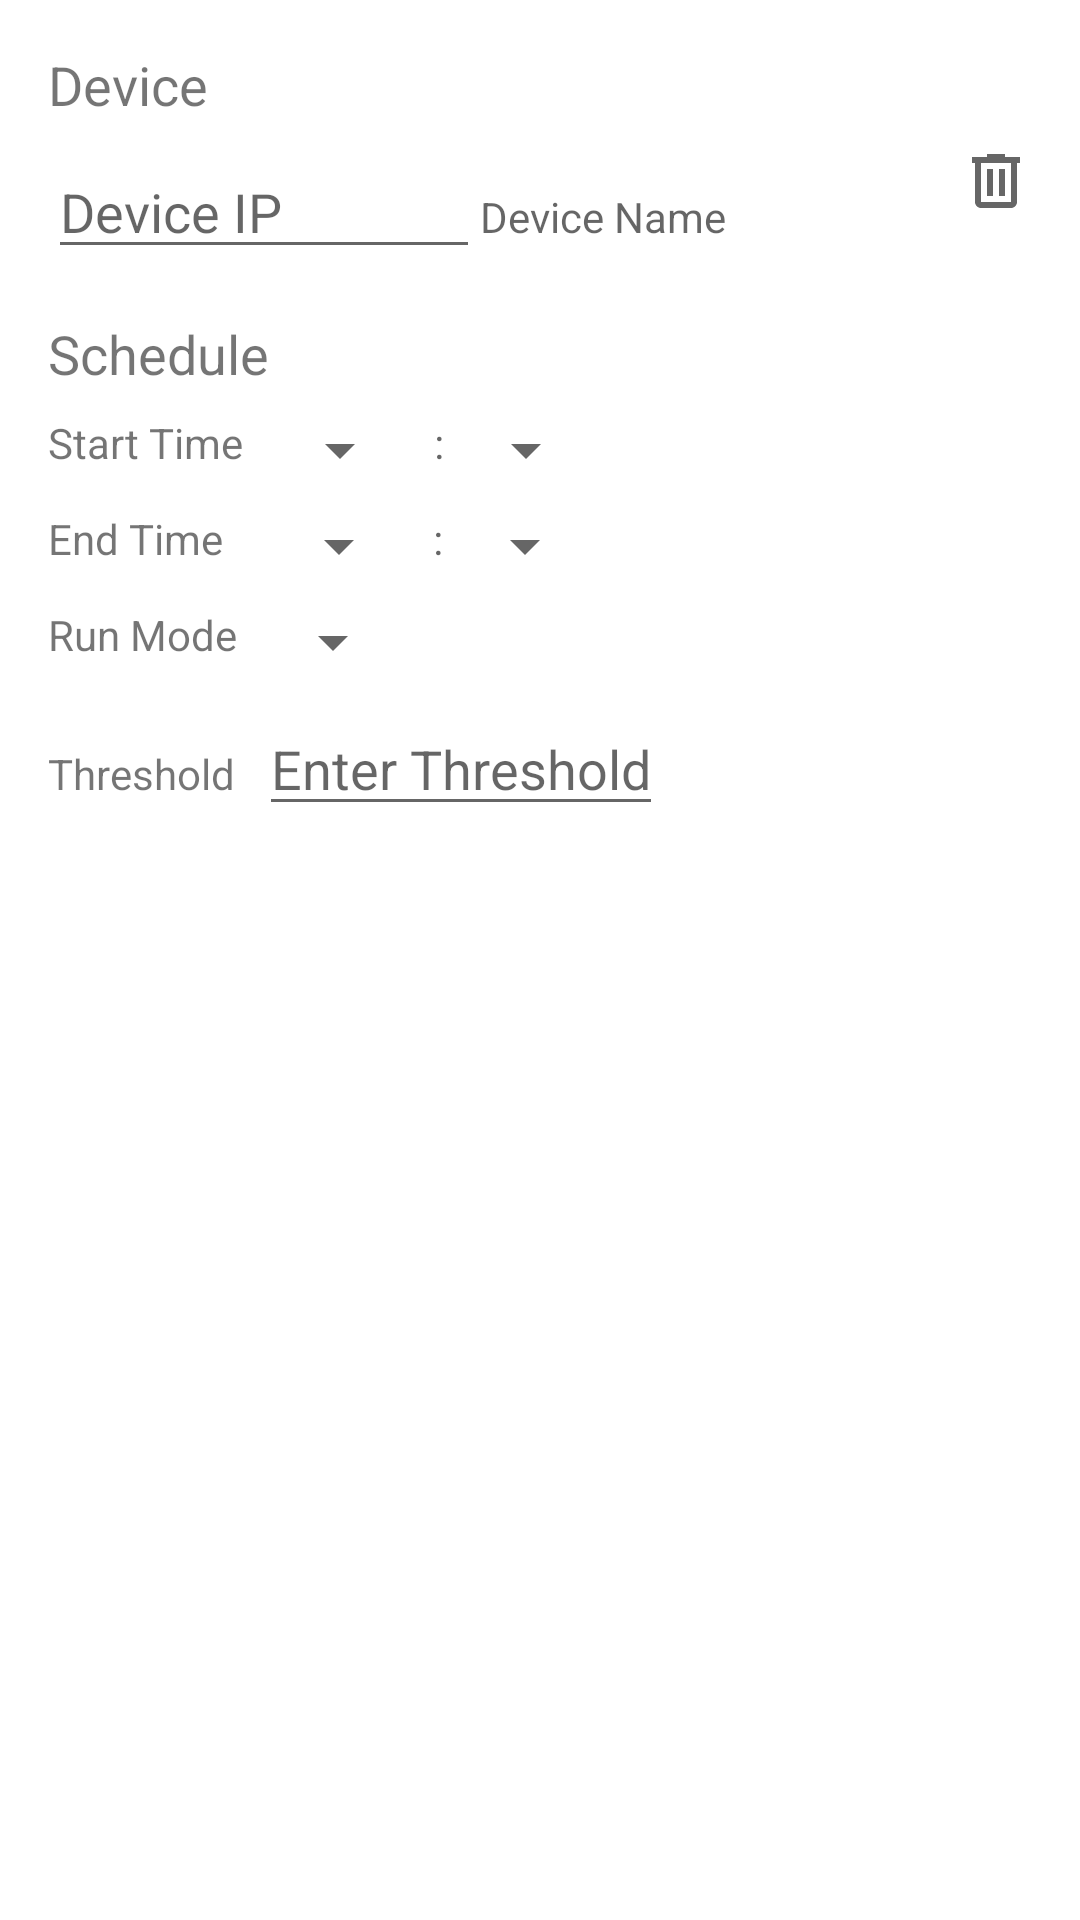

Screen size 1080w x 1920h. Icon name, then its box in pixels as (x1=x1, y1=y1, x2=x2, y2=y2):
Delete Device: (x1=972, y1=154, x2=1020, y2=208)
